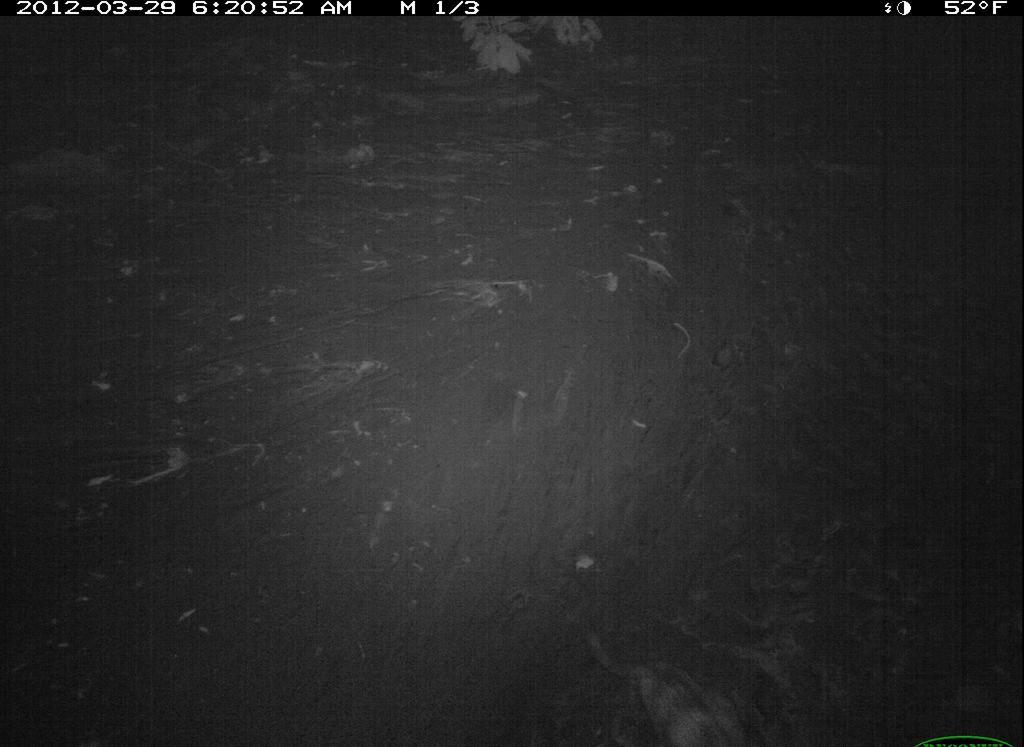cat: (577, 616, 779, 747)
